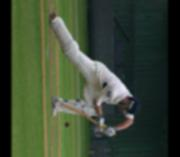batsman: (31, 1, 157, 146)
